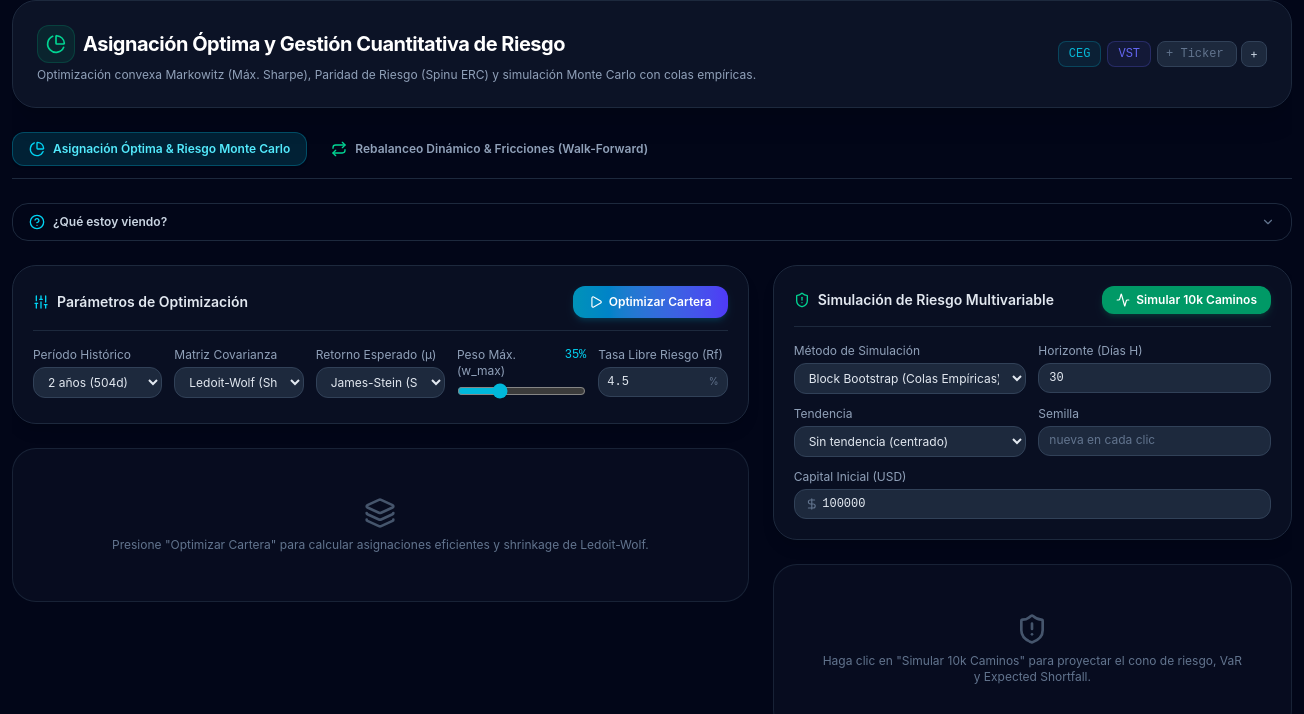
Test: PortfolioRiskView risk simulation (fix/risk-simulation) › the historical option is available and labeled as such
This screenshot has width=1304, height=714.
Select "Con la tendencia histórica" in the dropdown with test id "risk-drift-select": (910, 442) [794,426,1026,457]
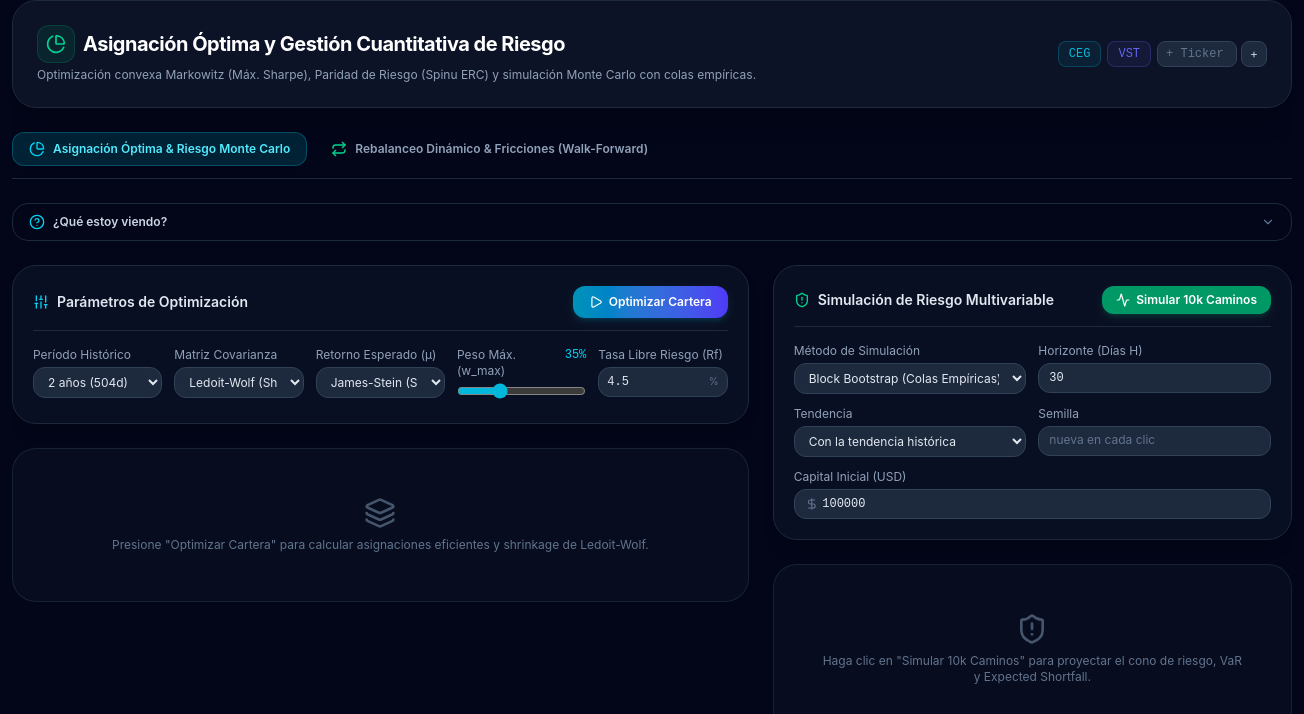
Click the button "Simular 10k Caminos": (1187, 300) [1102,286,1271,314]
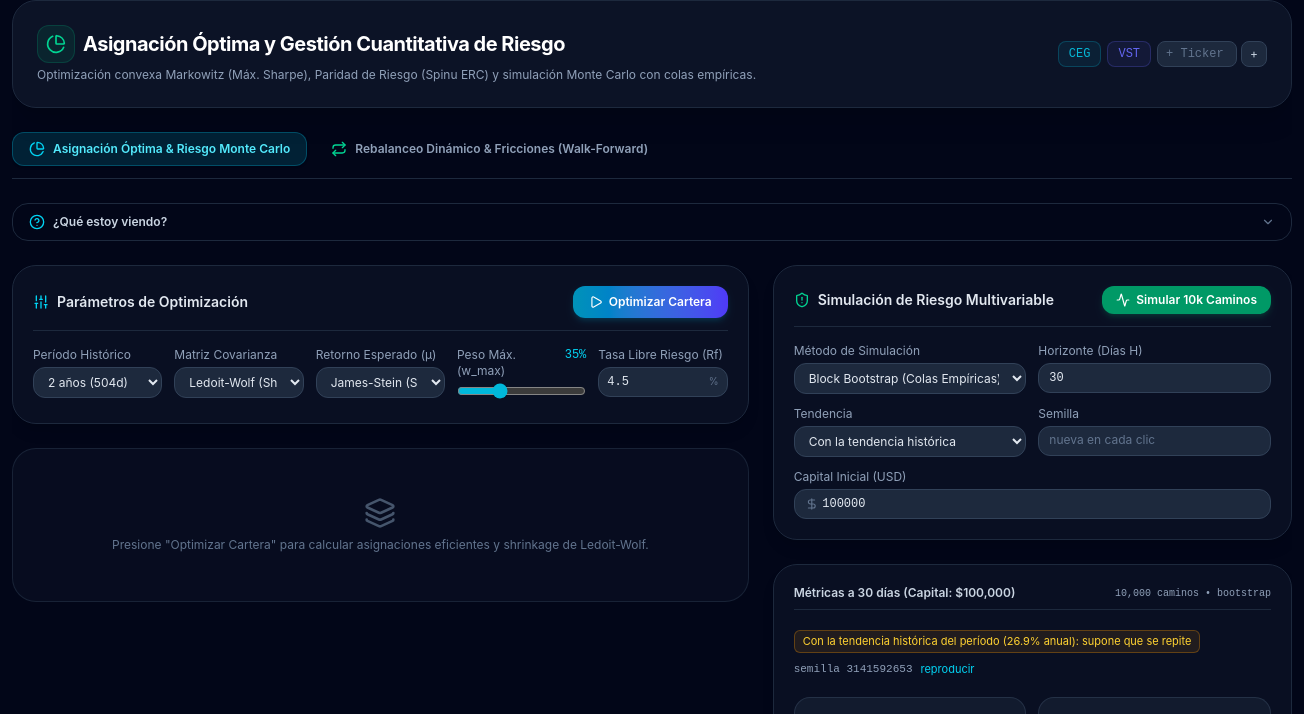
Now the text with test id "risk-drift-label" is shown, box [794,630,1200,652]
Now the text with test id "risk-drift-label" shows "Con la tendencia histórica", box [803,634,1191,648]
